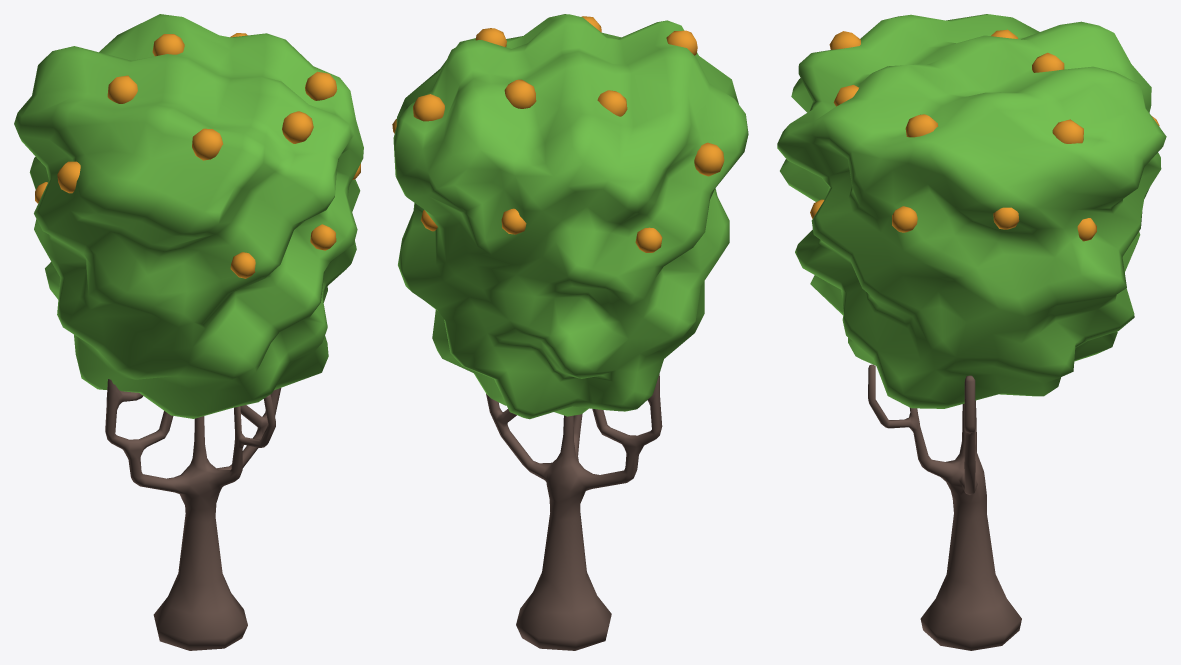
The model's file is tree_10.glb.
The picture shows the model from 3 angles, left to right: view 1: azimuth 30°, elevation 25°; view 2: azimuth 150°, elevation 25°; view 3: azimuth 270°, elevation 25°; orthographic projection.
Parts seen in each view (by area): view 1: tree_10; view 2: tree_10; view 3: tree_10.
Boxes of the visible parts, left/top/right/bottom form: tree_10: left=14, top=14, right=363, bottom=650; tree_10: left=392, top=14, right=748, bottom=650; tree_10: left=777, top=14, right=1166, bottom=650.
Size of the model in its own units: 1.95 by 3.62 by 2.17.
Materials: 1 (1 with a texture image).
